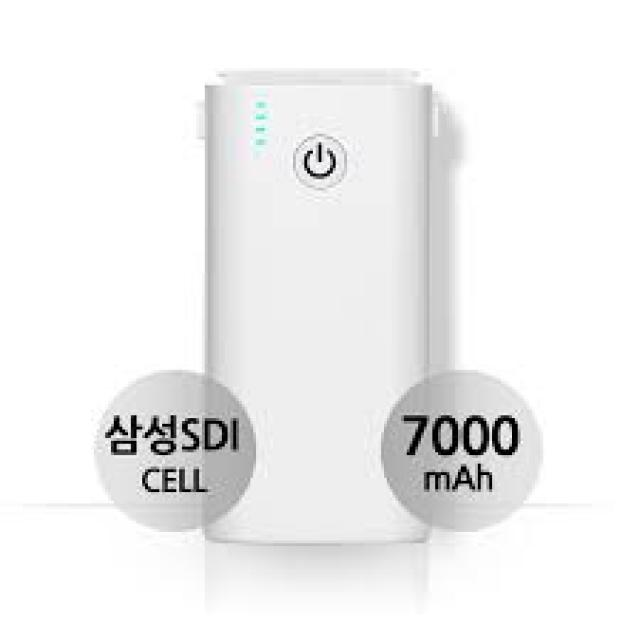portable-charger: (204, 66, 438, 545)
